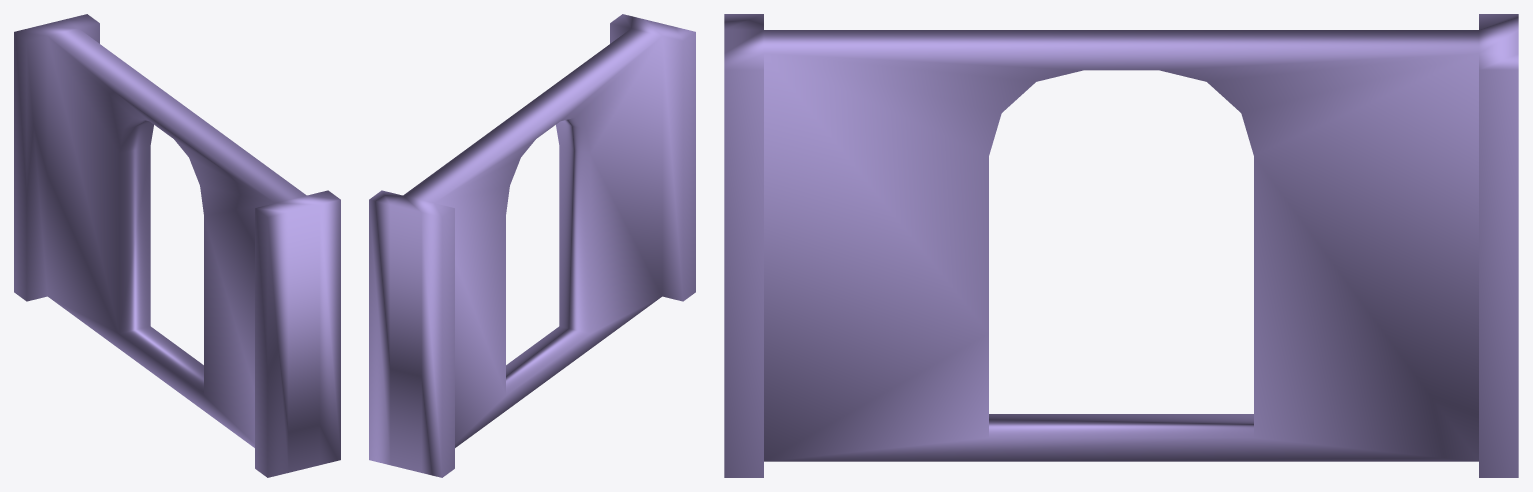
The model's file is Wall.fbx.
3 views of the same model, side by side, from view 1: azimuth 30°, elevation 25°; view 2: azimuth 150°, elevation 25°; view 3: azimuth 270°, elevation 25° (orthographic). The views are drawn at different scales.
Visible parts, largest first — view 1: Cube.089; view 2: Cube.089; view 3: Cube.089.
Boxes of the visible parts, x1,y1,x2,y2 form: Cube.089: (14, 14, 340, 477); Cube.089: (369, 14, 695, 477); Cube.089: (724, 14, 1518, 477).
Size of the model in its own units: 100 by 340 by 600.
